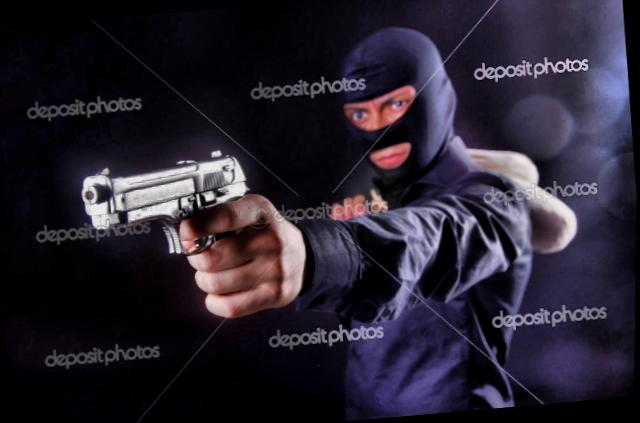pistol: (69, 133, 269, 302)
